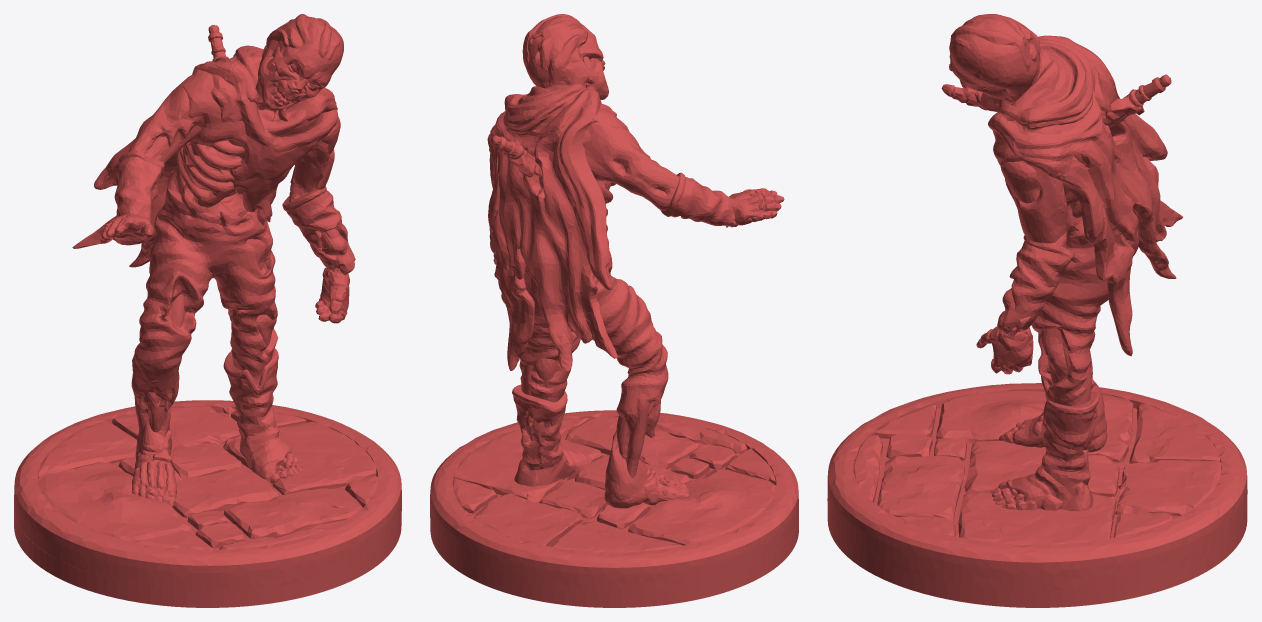
The model's file is zombie.glb.
3 renders of one model, left to right at view 1: azimuth 30°, elevation 25°; view 2: azimuth 150°, elevation 25°; view 3: azimuth 270°, elevation 25°, orthographic. The views are drawn at different scales.
Parts seen in each view (by area): view 1: zombie; view 2: zombie; view 3: zombie.
Boxes of the visible parts, <box> form: zombie: <box>14,14,401,607</box>; zombie: <box>430,14,798,607</box>; zombie: <box>827,14,1247,607</box>.
Bounding box in the file's own units: 30.82 × 43.99 × 30.81.
